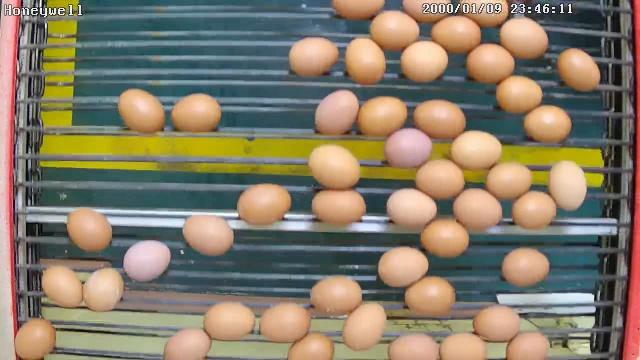egg: (307, 143, 362, 191), (116, 87, 167, 136), (340, 300, 388, 352), (286, 34, 340, 80), (307, 274, 363, 318), (236, 182, 292, 226), (498, 15, 550, 62), (429, 12, 484, 56), (181, 212, 236, 256), (64, 206, 114, 254), (313, 88, 361, 138), (464, 40, 516, 86), (414, 156, 466, 202), (452, 186, 504, 232), (356, 93, 409, 138), (403, 274, 457, 318), (258, 300, 312, 344), (376, 244, 430, 288), (384, 186, 438, 230), (449, 128, 504, 171), (412, 98, 467, 141), (548, 156, 590, 212), (398, 36, 449, 82), (342, 35, 388, 86), (310, 186, 367, 227), (368, 8, 421, 52), (202, 300, 257, 342), (170, 92, 222, 136), (419, 216, 471, 260), (382, 125, 433, 169), (556, 45, 601, 94), (122, 238, 172, 282), (522, 102, 574, 144), (80, 265, 125, 313), (39, 262, 84, 310), (500, 245, 550, 288), (510, 188, 558, 232), (494, 73, 544, 115), (484, 160, 534, 202), (472, 303, 522, 344), (12, 316, 56, 360), (162, 325, 214, 360)
